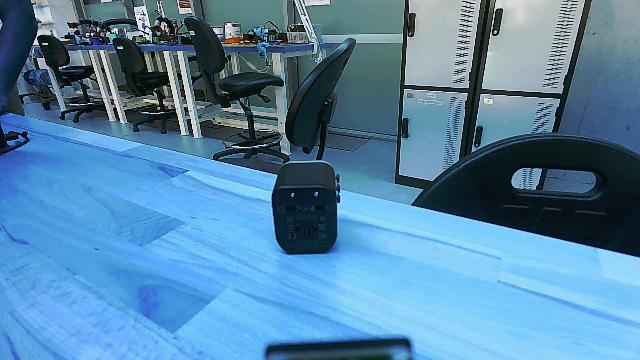adapter: (267, 159, 341, 257)
